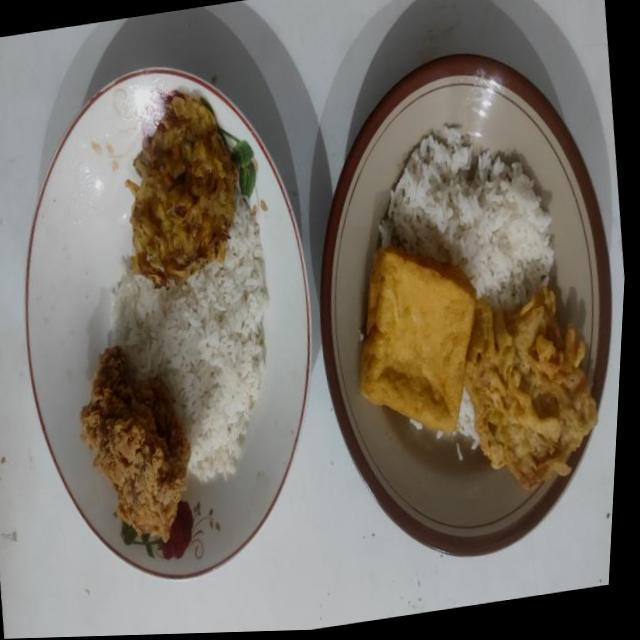nasi_putih: (109, 189, 269, 482), (379, 125, 553, 309), (457, 386, 479, 448)
tahu_goreng: (359, 248, 477, 432)
